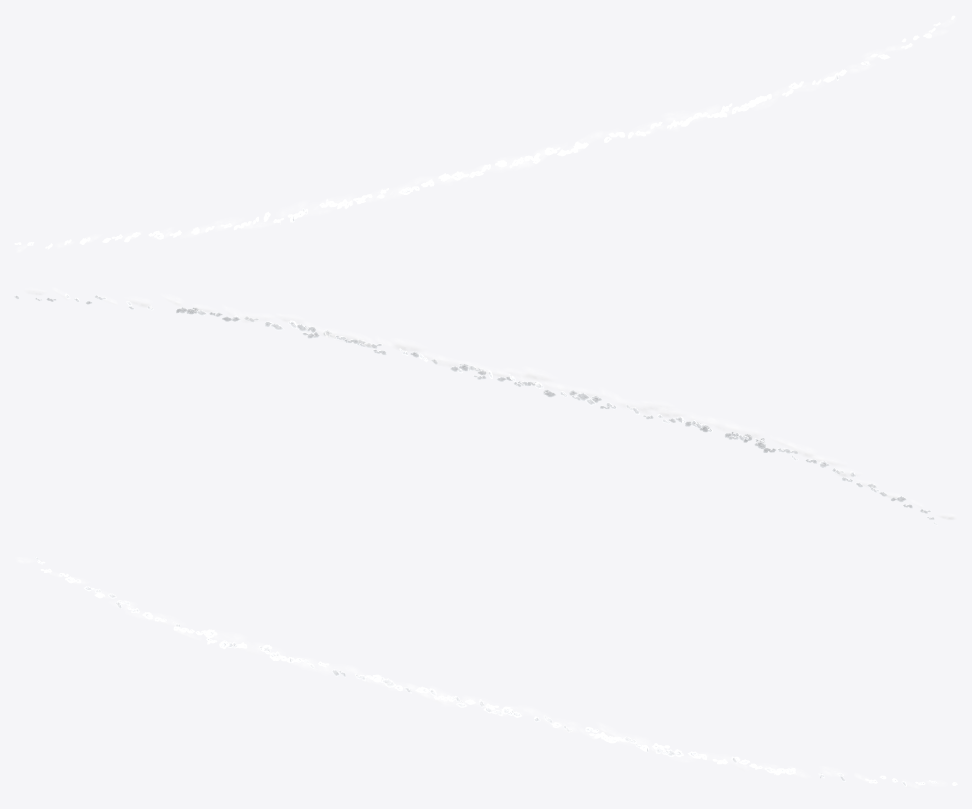
File: wave_toe.glb
3 views of the same model, one above another, from view 1: azimuth 30°, elevation 25°; view 2: azimuth 150°, elevation 25°; view 3: azimuth 330°, elevation 25° (orthographic).
Bounding box in the file's own units: 609 × 11.78 × 55.77.
Materials: 2 (2 with a texture image).
